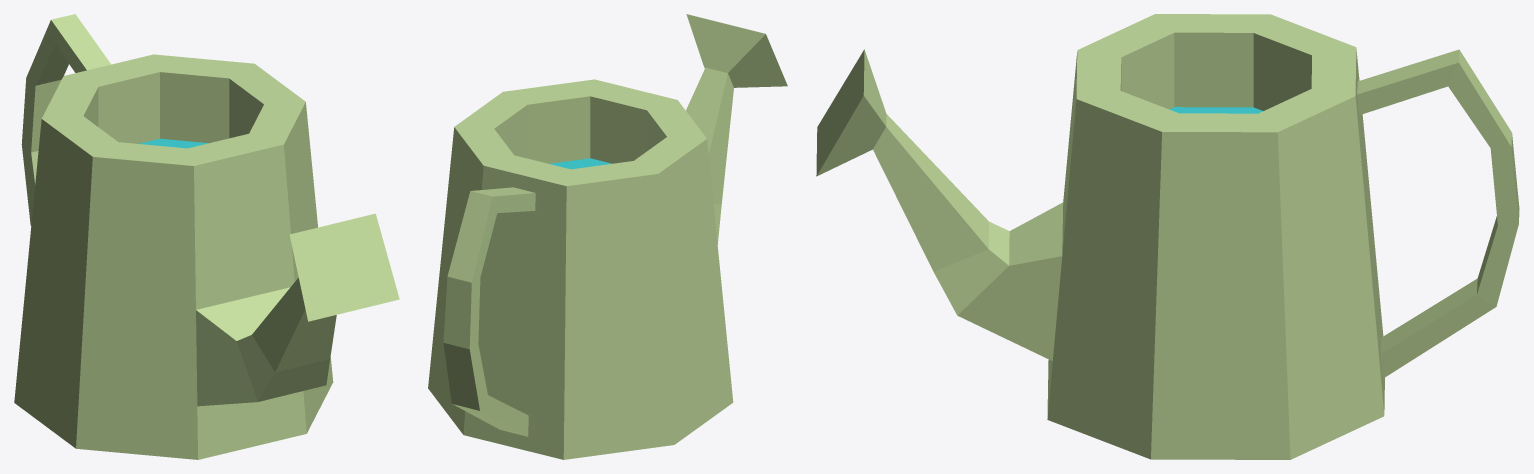
The model's file is watercan.fbx.
3 views of the same model, side by side, from view 1: azimuth 30°, elevation 25°; view 2: azimuth 150°, elevation 25°; view 3: azimuth 270°, elevation 25° (orthographic). The views are drawn at different scales.
Visible parts, largest first — view 1: F_watercan; view 2: F_watercan; view 3: F_watercan.
Part boxes in pixels (x1,y1,x2,y2): F_watercan: [14, 14, 399, 459]; F_watercan: [428, 14, 787, 459]; F_watercan: [816, 14, 1519, 459].
Size of the model in its own units: 89.5 by 96.89 by 186.
